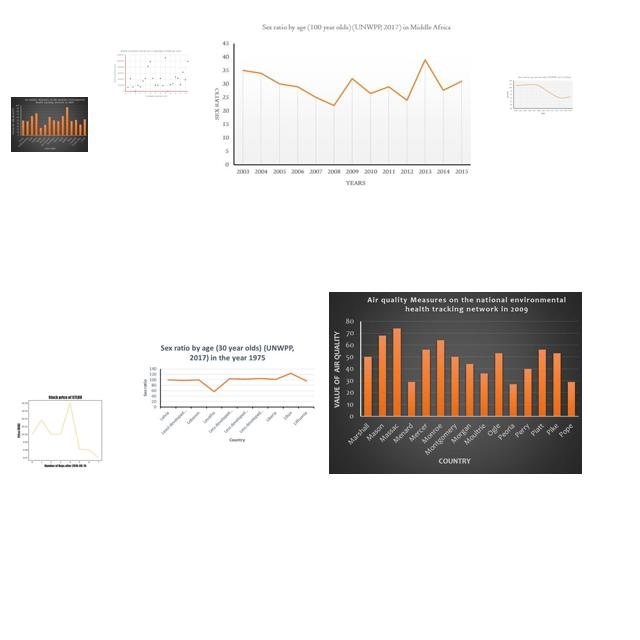Graph: (329, 292, 582, 474), (206, 19, 475, 190), (138, 341, 317, 445), (12, 391, 116, 469), (11, 97, 88, 152), (114, 49, 189, 98), (505, 75, 574, 115)
